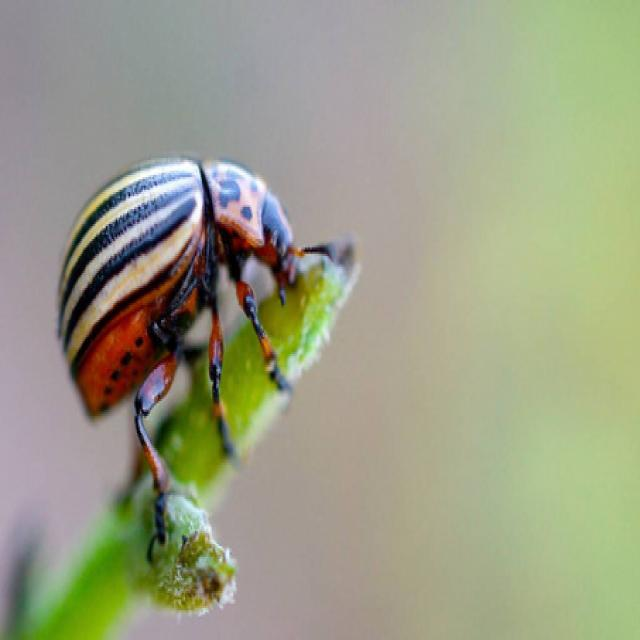ShuCaiHuaBanChong-Grown-: (32, 130, 304, 450)
